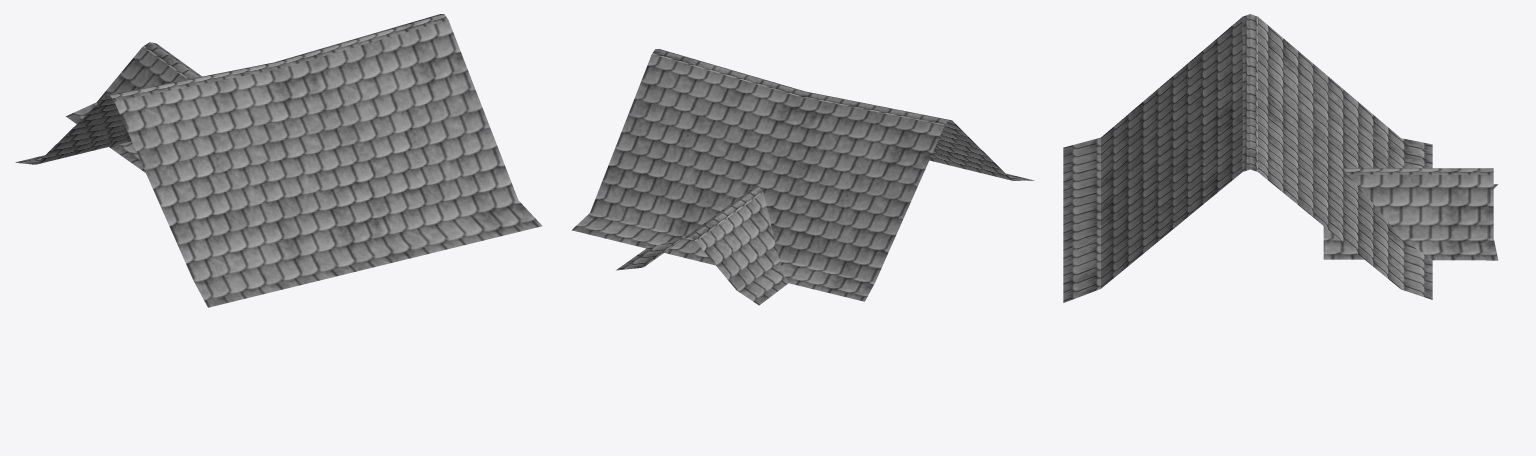
File: h_farm.FBX
The picture shows the model from 3 angles, left to right: view 1: azimuth 30°, elevation 25°; view 2: azimuth 150°, elevation 25°; view 3: azimuth 270°, elevation 25°; orthographic projection. The views are drawn at different scales.
Visible parts, largest first — view 1: h_farm; view 2: h_farm; view 3: h_farm.
Boxes of the visible parts, <box> form: h_farm: <box>15,14,542,307</box>; h_farm: <box>572,49,1034,305</box>; h_farm: <box>1063,14,1498,302</box>.
Size of the model in its own units: 115 by 98.75 by 143.
